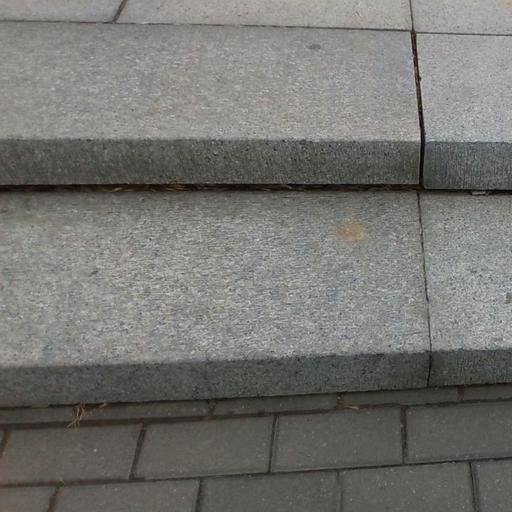stairs: (0, 0, 511, 405)
